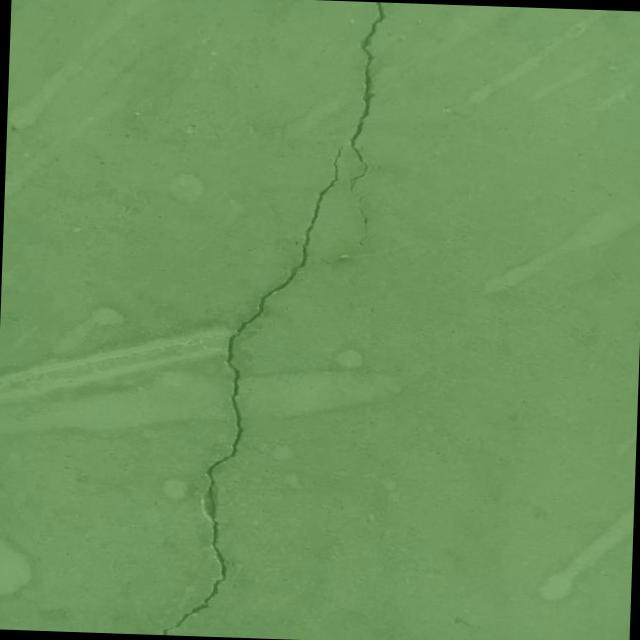crack: (162, 137, 344, 640), (326, 0, 388, 266)
